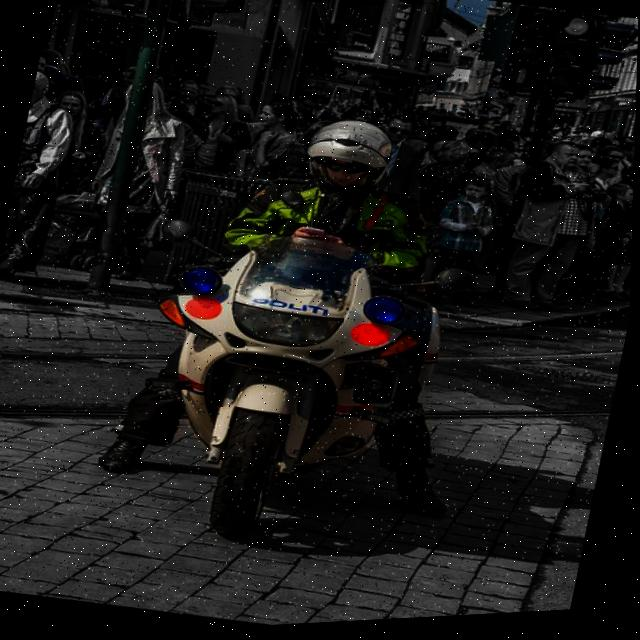motorcycle: (103, 187, 467, 575)
